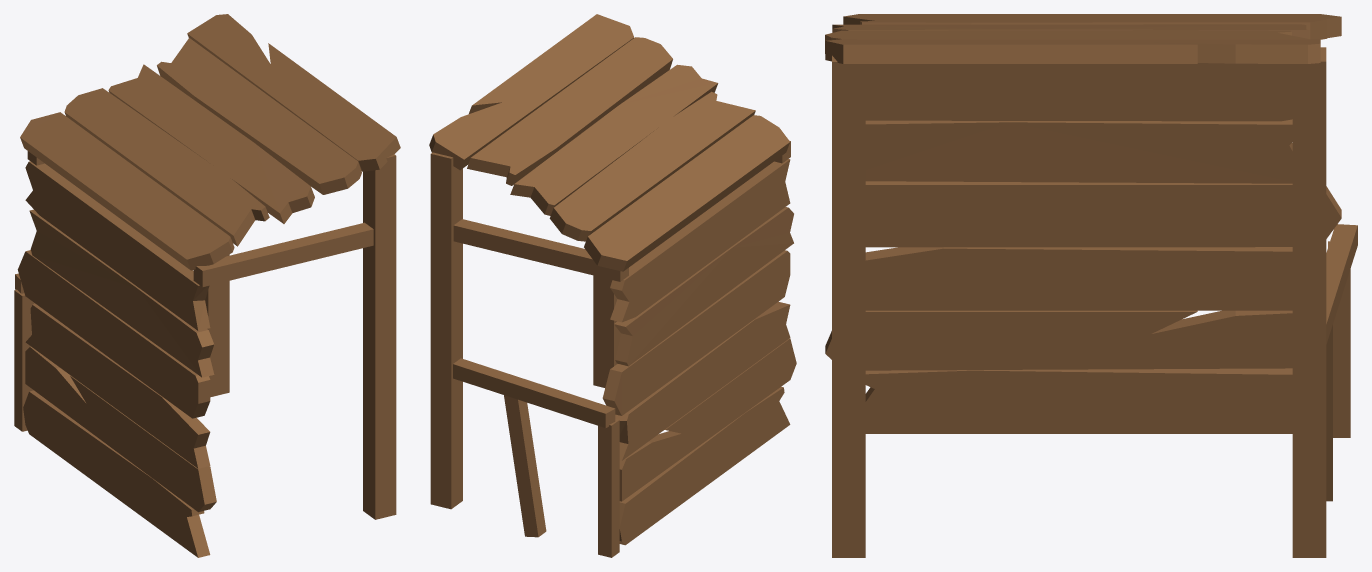
The model's file is SomethingWooden.dae.
The picture shows the model from 3 angles, left to right: view 1: azimuth 30°, elevation 25°; view 2: azimuth 150°, elevation 25°; view 3: azimuth 270°, elevation 25°; orthographic projection. The views are drawn at different scales.
Visible parts, largest first — view 1: Cube; view 2: Cube; view 3: Cube.
Part boxes in pixels (bbox=[...]): Cube: bbox=[14, 14, 400, 557]; Cube: bbox=[429, 14, 796, 557]; Cube: bbox=[825, 14, 1357, 557].
Size of the model in its own units: 1.39 by 2.23 by 2.43.
Materials: 1 (1 with a texture image).
